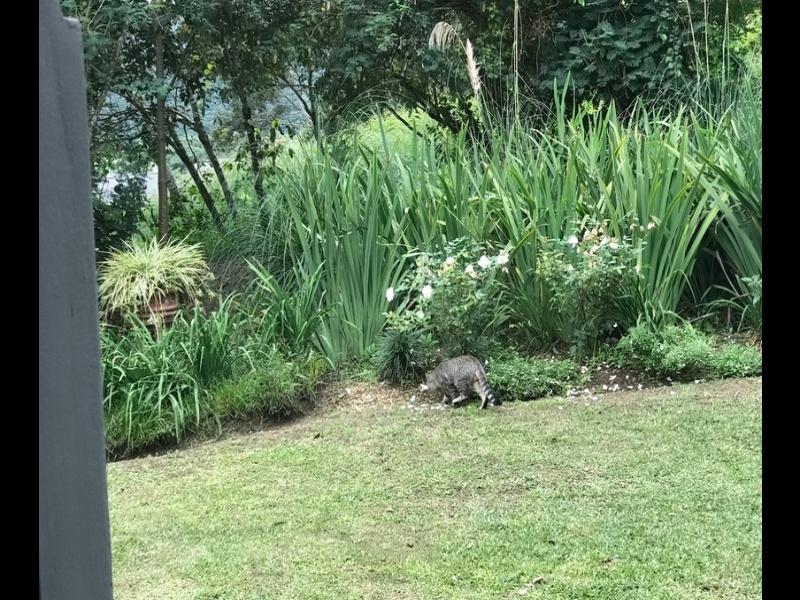cat: (420, 355, 506, 415)
